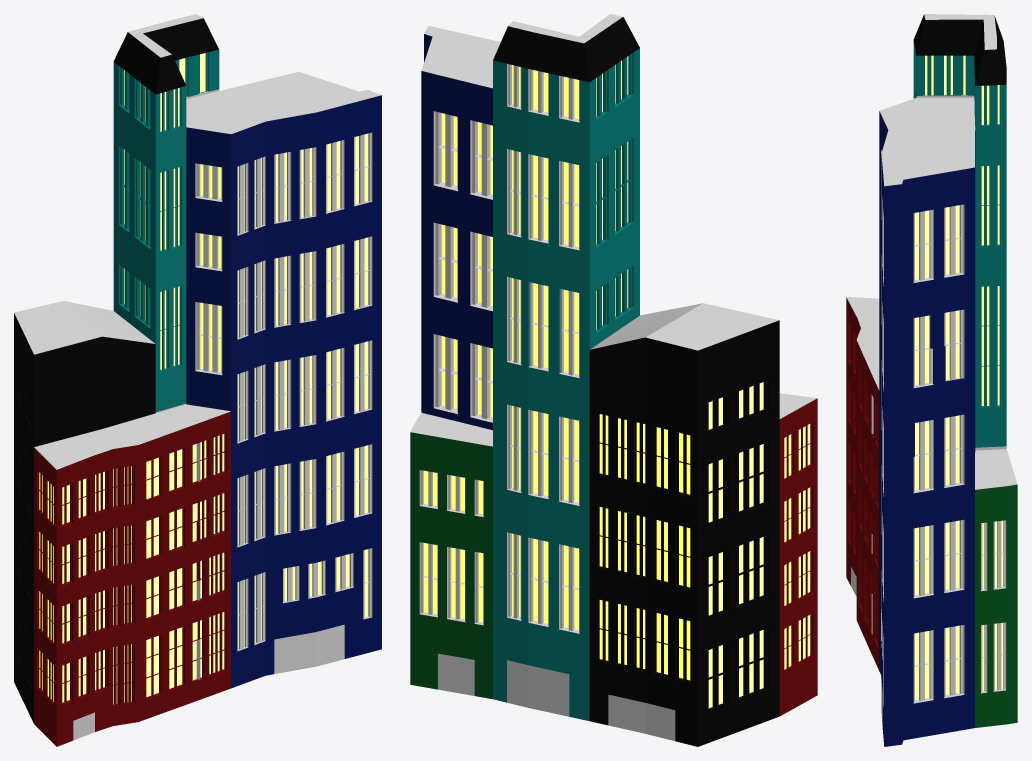
The model's file is nero_complex.fbx.
3 views of the same model, side by side, from view 1: azimuth 30°, elevation 25°; view 2: azimuth 150°, elevation 25°; view 3: azimuth 270°, elevation 25° (orthographic). The views are drawn at different scales.
Visible parts, largest first — view 1: Plane; view 2: Plane; view 3: Plane.
Part boxes in pixels (box(x1,y1,x2,y2)): Plane: box(14, 14, 381, 746); Plane: box(410, 14, 817, 746); Plane: box(846, 14, 1017, 746).
Bounding box in the file's own units: 1689 × 2938 × 721.
